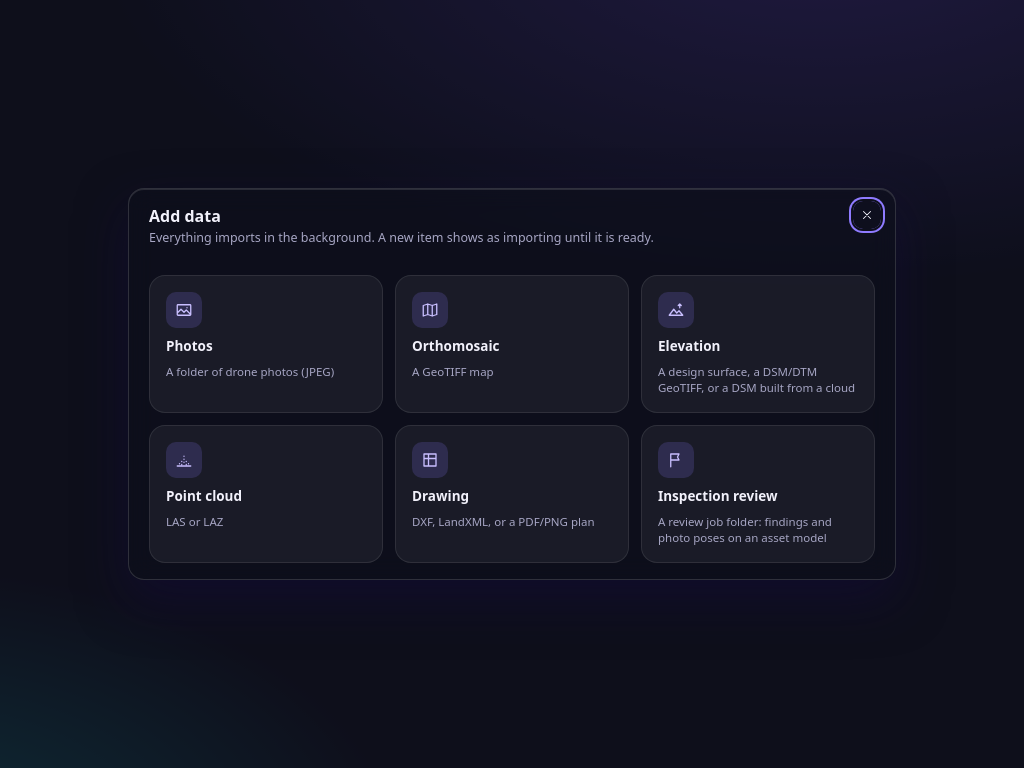
Test case: AddDataDialog › offers an inspection review import
This screenshot has width=1024, height=768.
What coordinates should you click on to do the following:
click the button "Inspection review"
I would click on:
 (758, 494)
Its box is [641, 425, 875, 563].
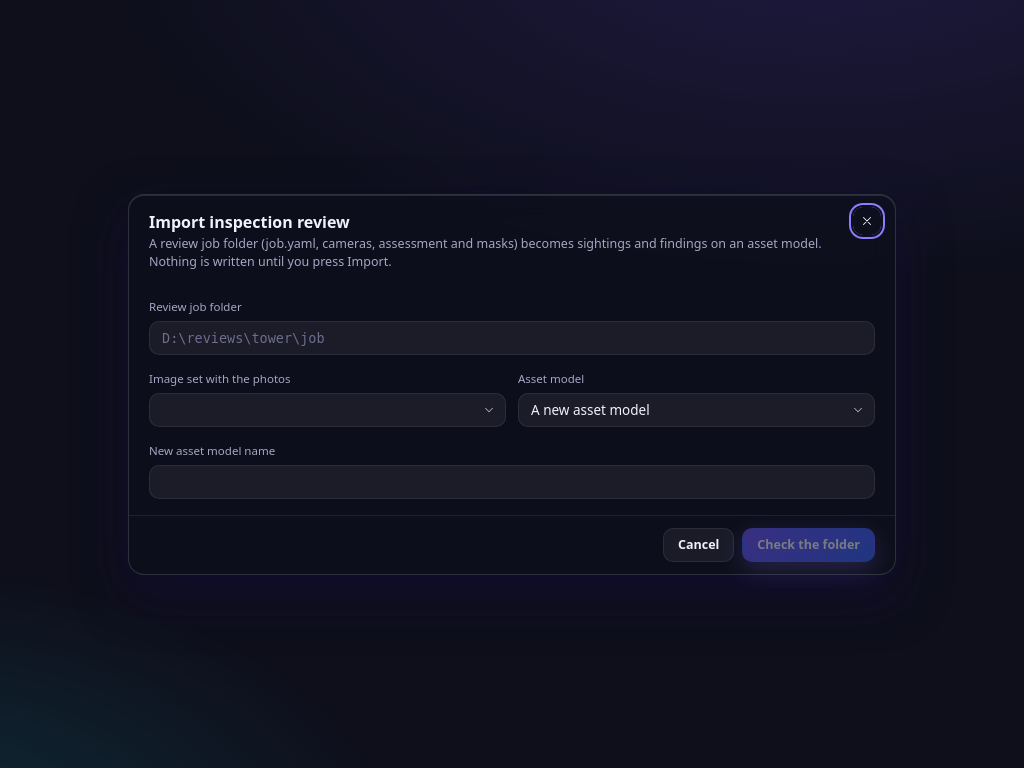
Now the dialog "Import inspection review" is shown, box [128, 194, 896, 574]
